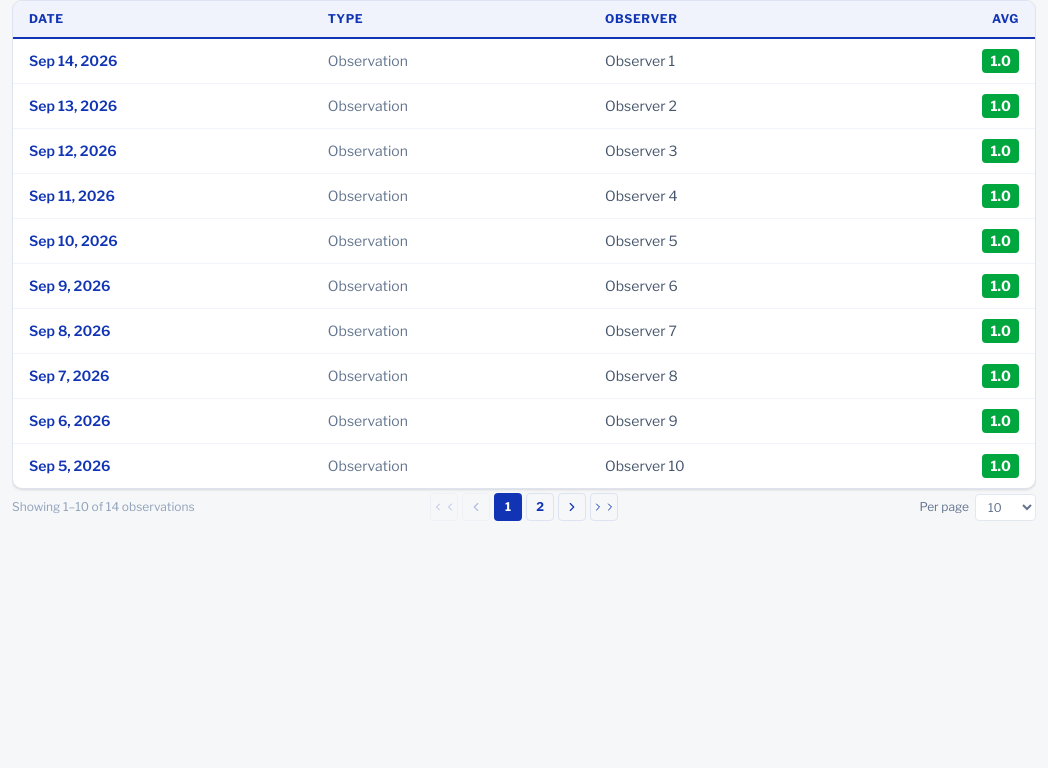
Test: observation history table › moves to the next page
The width and height of the screenshot is (1048, 768).
What coordinates should you click on to do the following:
click the button named "Next page"
I would click on:
 (572, 507)
Its box is [558,493,586,521].
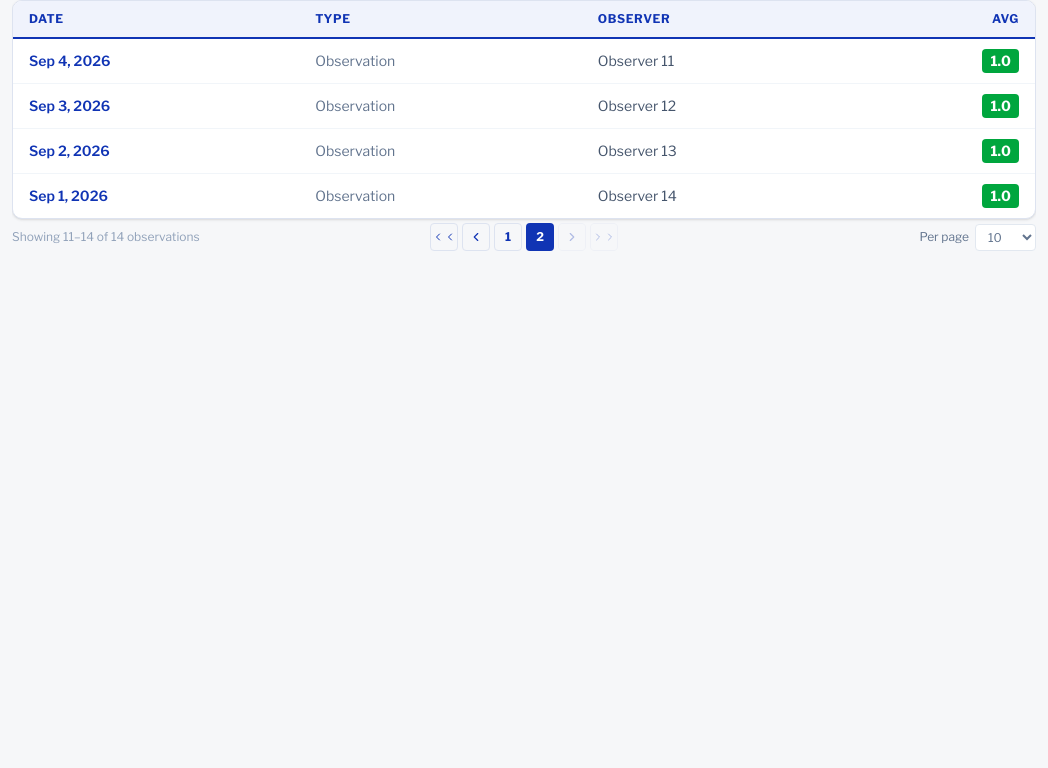
Check: the text "Observer 11" is shown, box [582,38,862,84]
